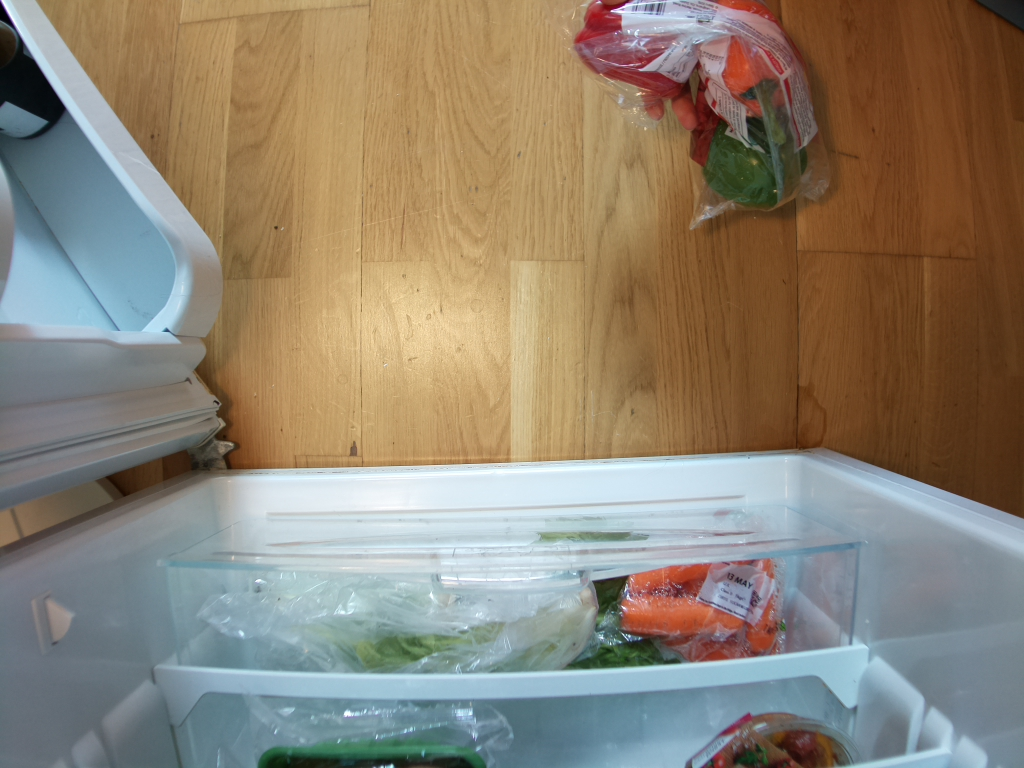pepper: (575, 4, 701, 96), (702, 112, 806, 211), (718, 24, 797, 125)
